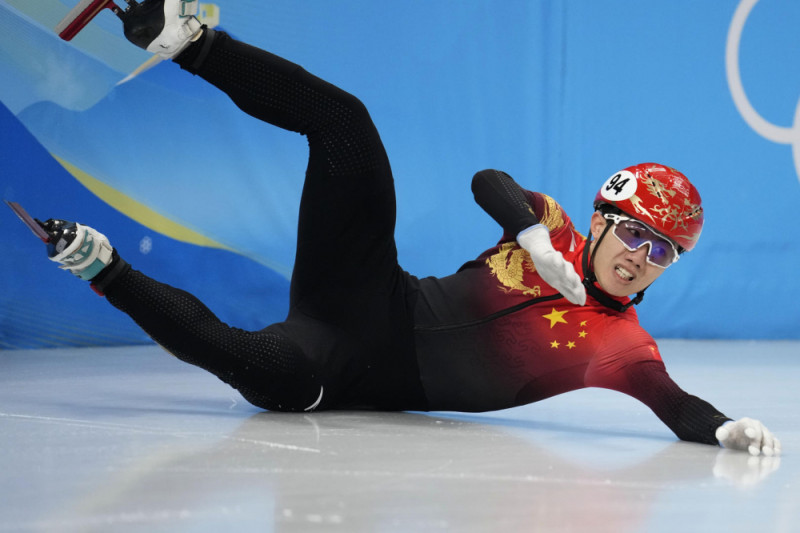down: (11, 6, 778, 474)
